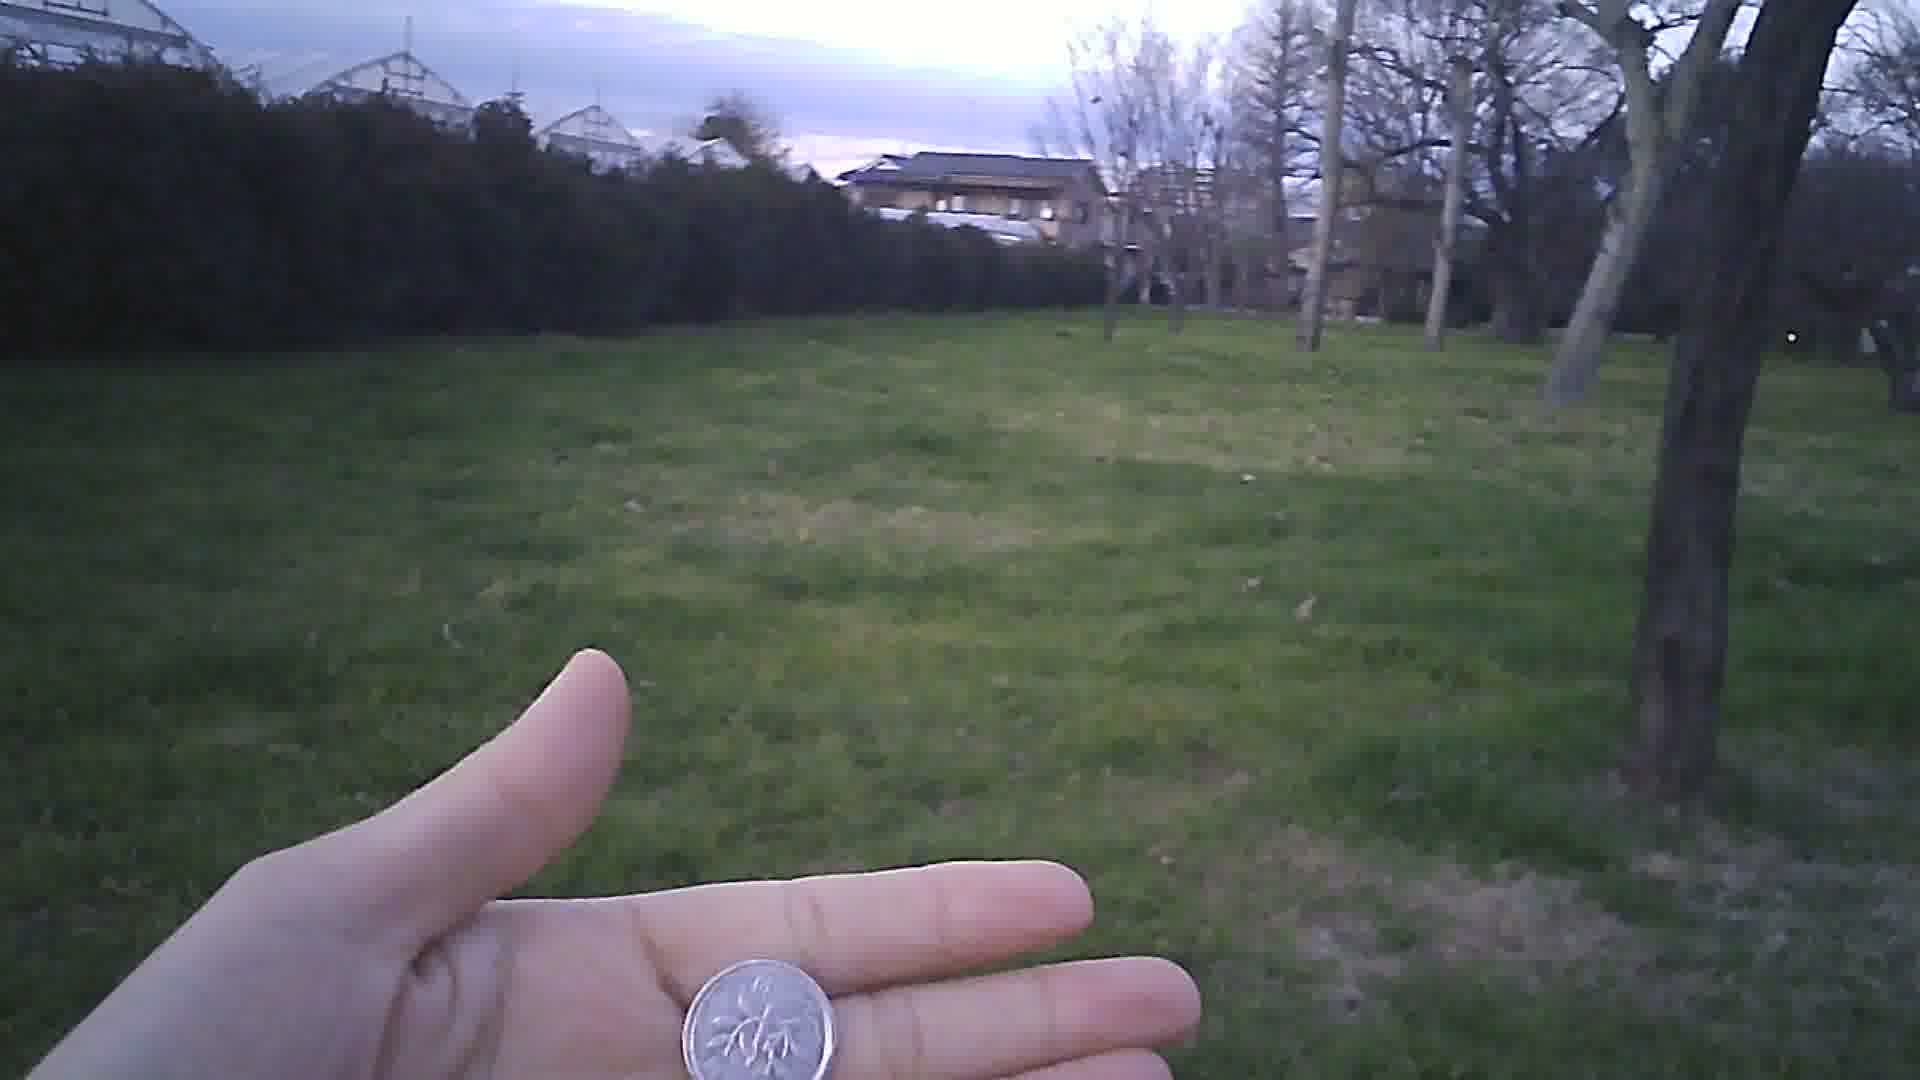1 Yen: (673, 949, 843, 1079)
